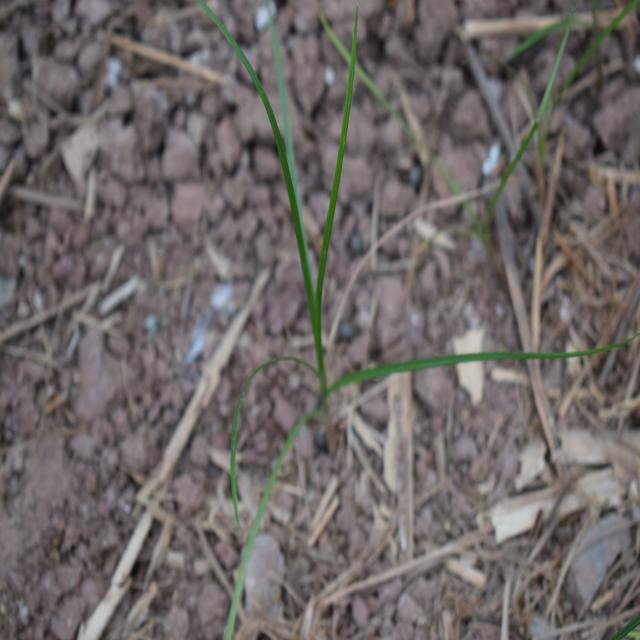sedge: (165, 5, 550, 570)
